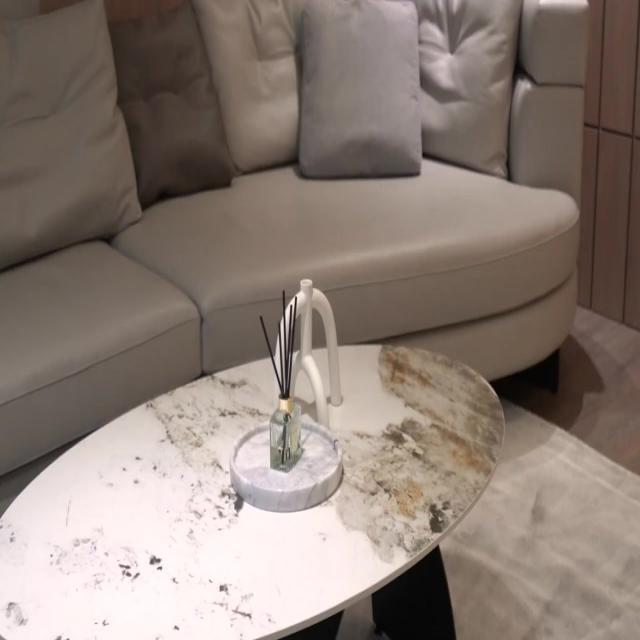obstacle: (0, 0, 591, 480), (0, 340, 506, 638)
